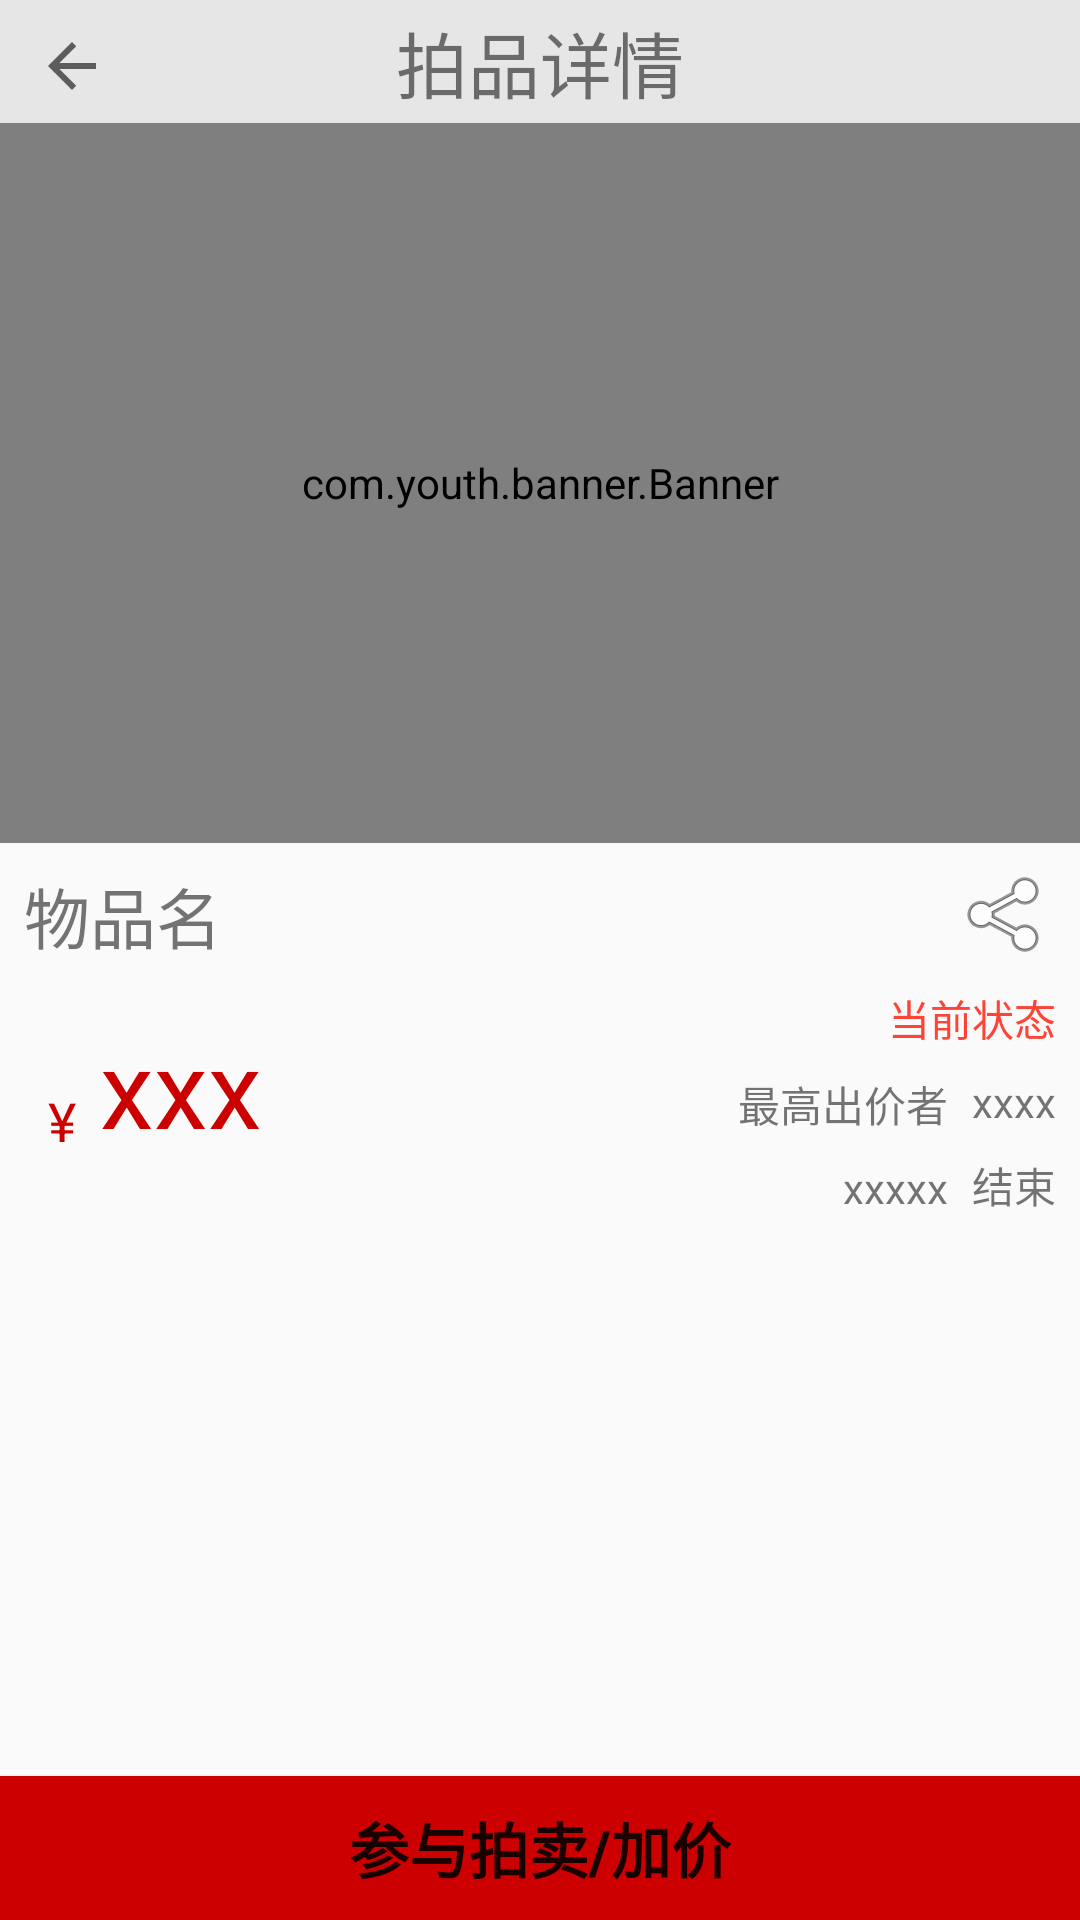

Icon bounding boxes for this 1080w x 1920h phone screenshot, format (left=x1, top=y1, right=x2, bottom=y2):
share: (left=967, top=877, right=1039, bottom=952)
